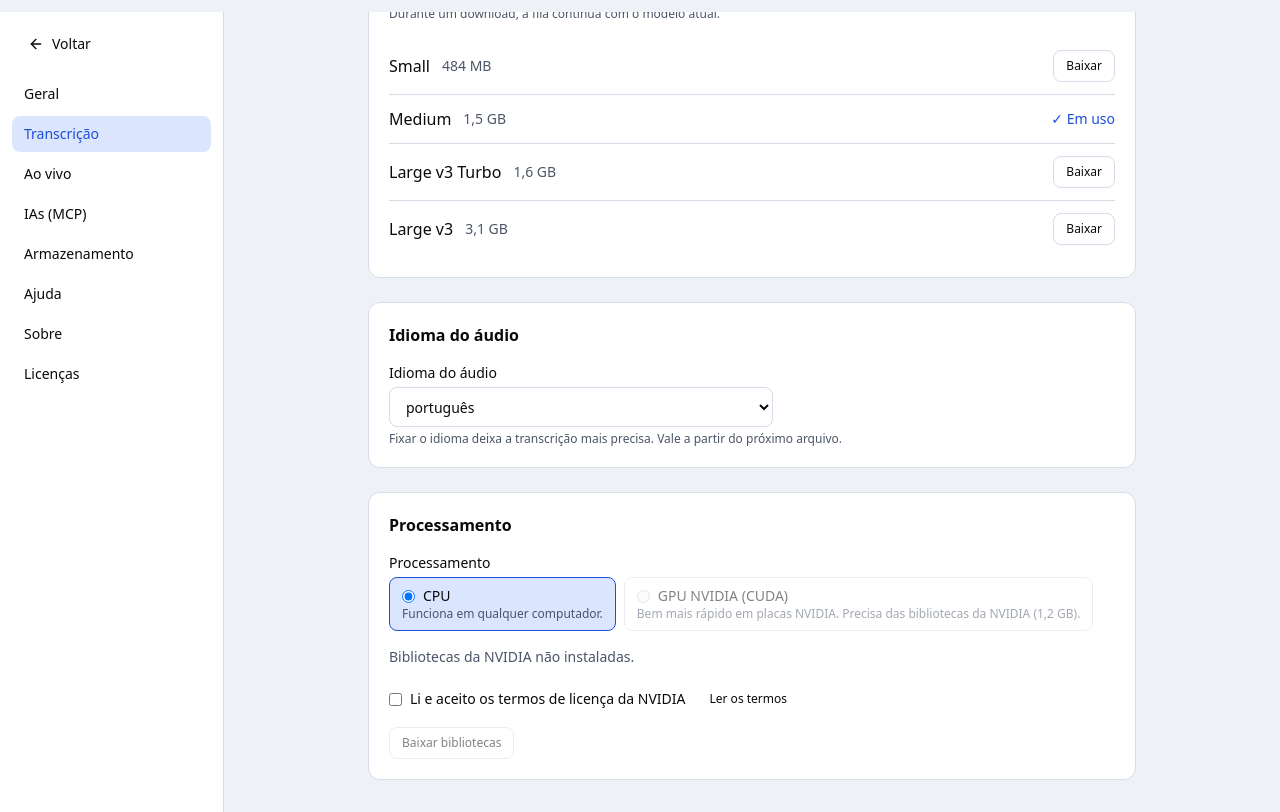
Test: Transcrição — idioma e processamento › GPU sem bibliotecas: aceitar termos, baixar e passar a usar a GPU
(page scrolled)
Expected: the text "Bibliotecas da NVIDIA não instaladas." is shown, [389, 647, 634, 666]
Expected: the button "Baixar bibliotecas" is disabled, [389, 727, 514, 759]
Click the button "Ler os termos".
click(748, 699)  # box [698, 683, 799, 715]
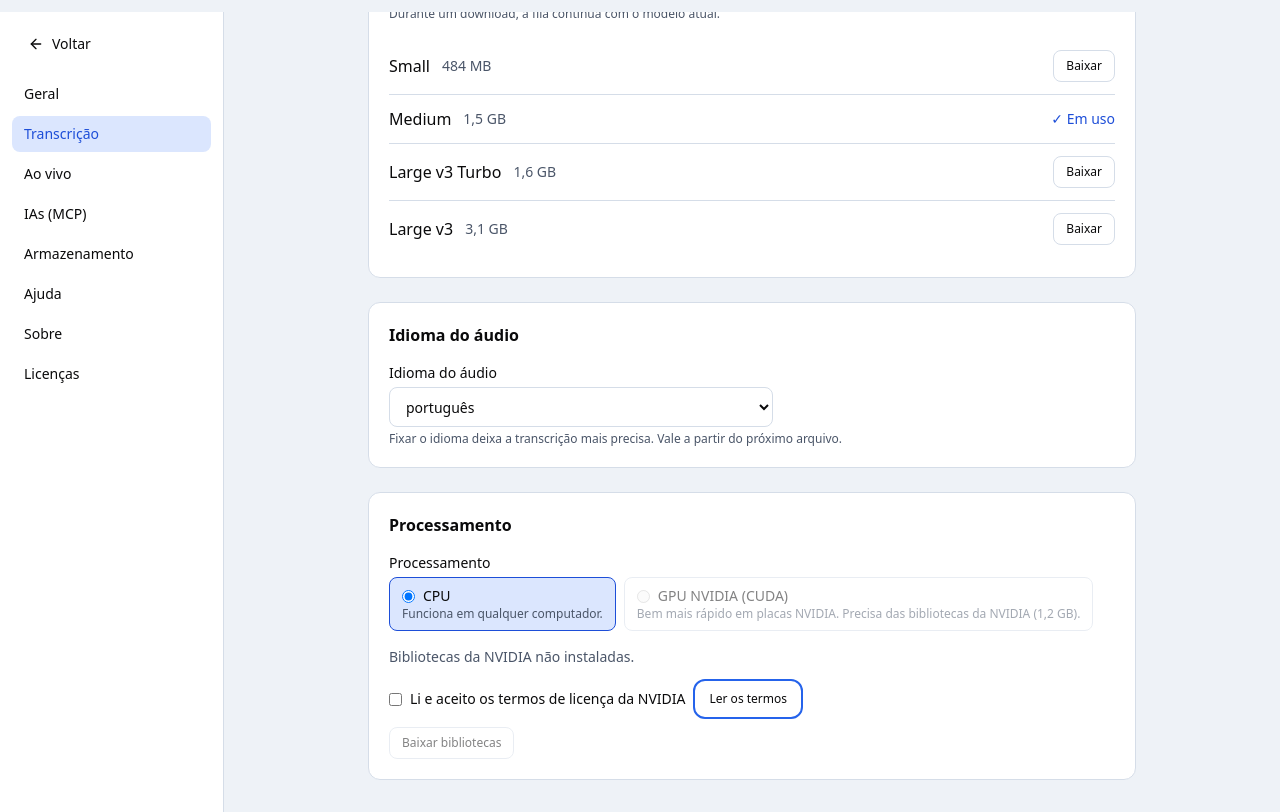
Click the checkbox labelled "Li e aceito os termos de licença da NVIDIA".
click(396, 699)  # box [389, 692, 402, 706]
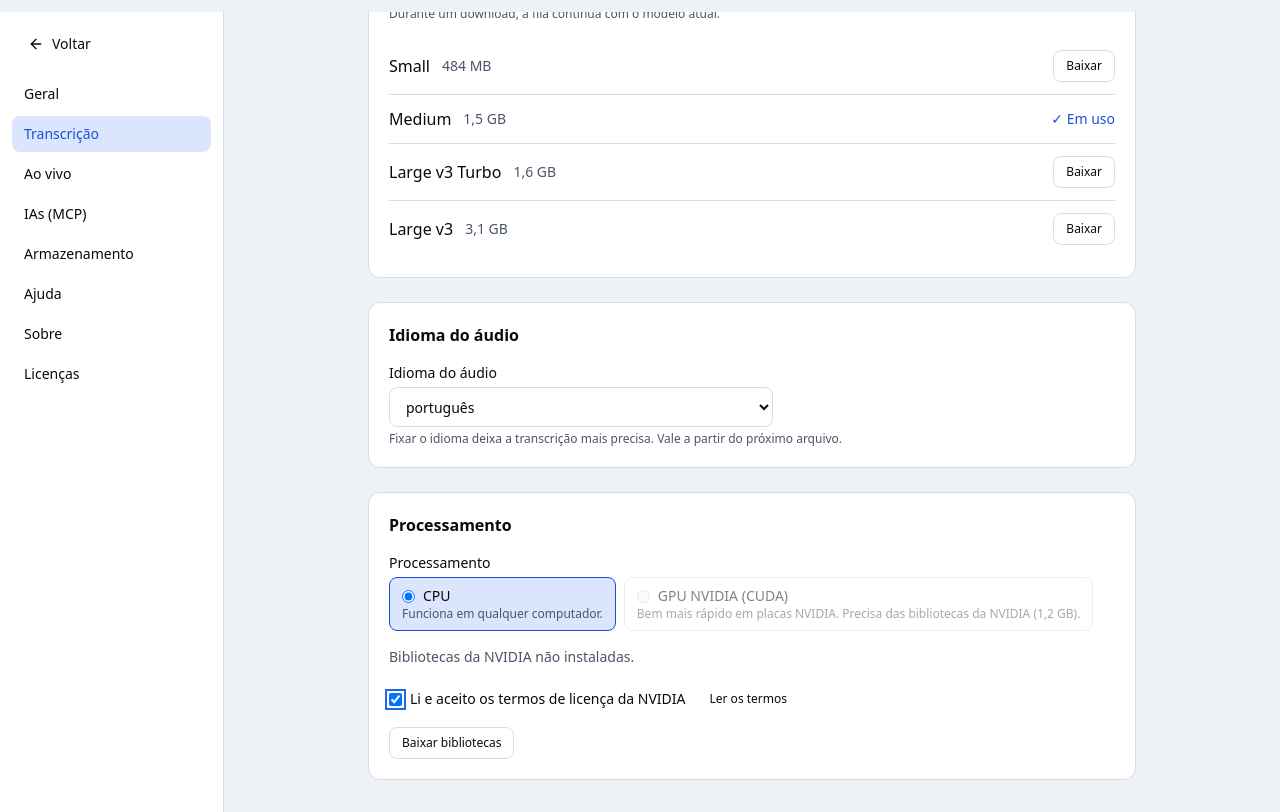
Click the button "Baixar bibliotecas".
click(452, 743)  # box [389, 727, 514, 759]
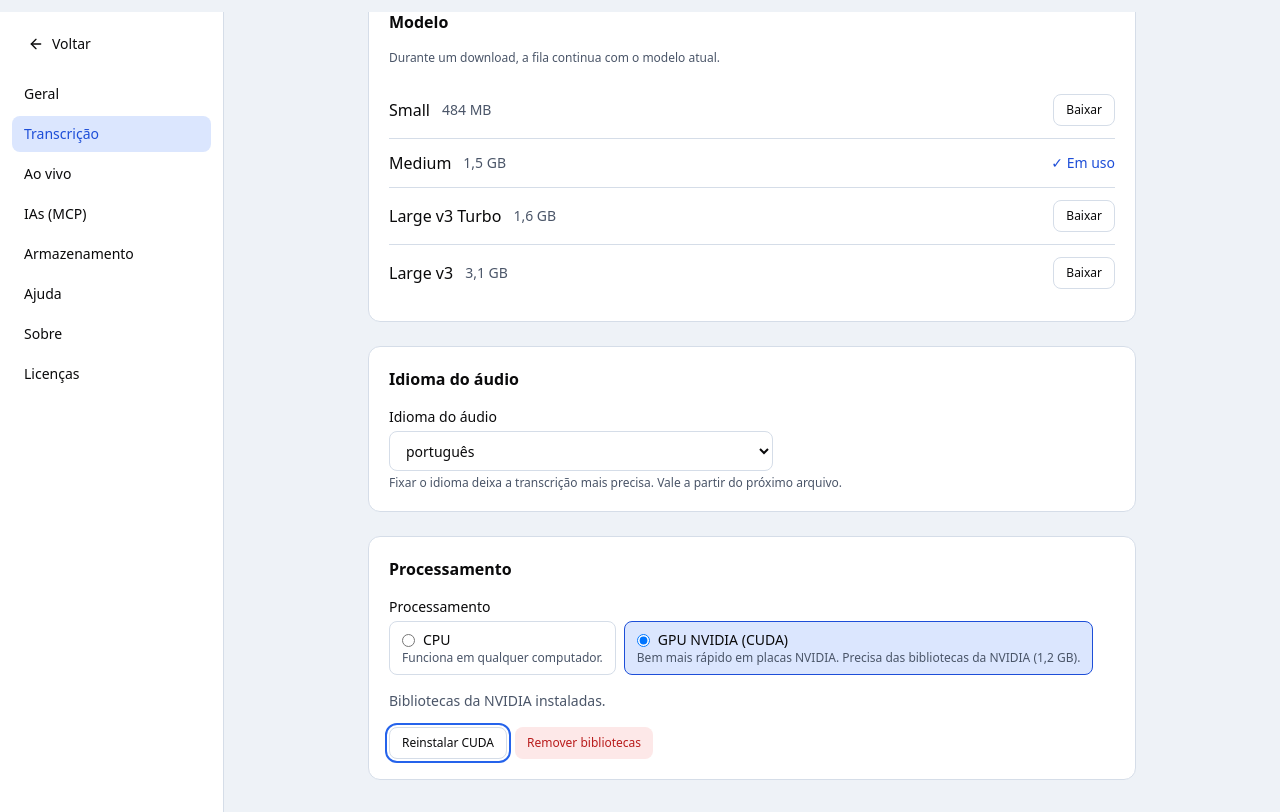
Expected: the text "Bibliotecas da NVIDIA instaladas." is shown, [389, 691, 606, 710]
